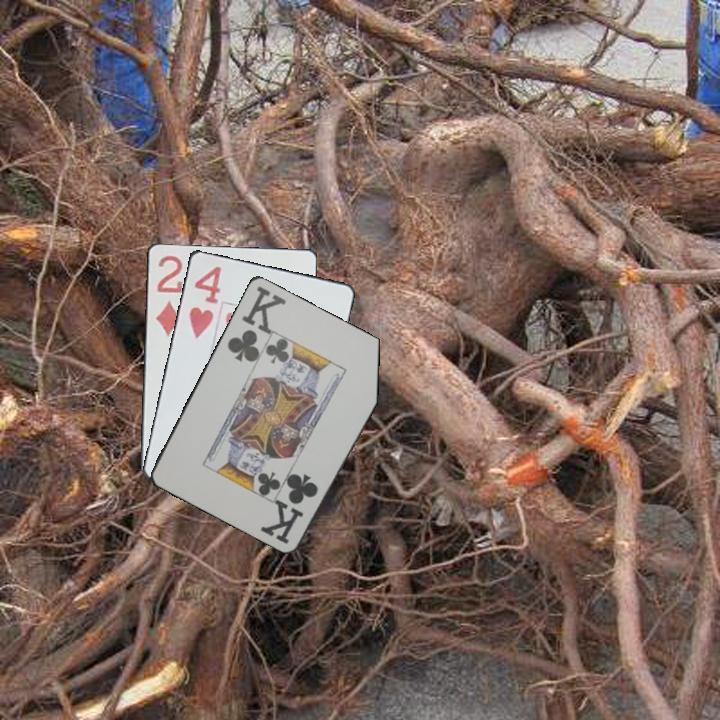2d: (152, 251, 185, 339)
4h: (185, 262, 224, 342)
Kc: (224, 282, 288, 367), (261, 469, 322, 547)
